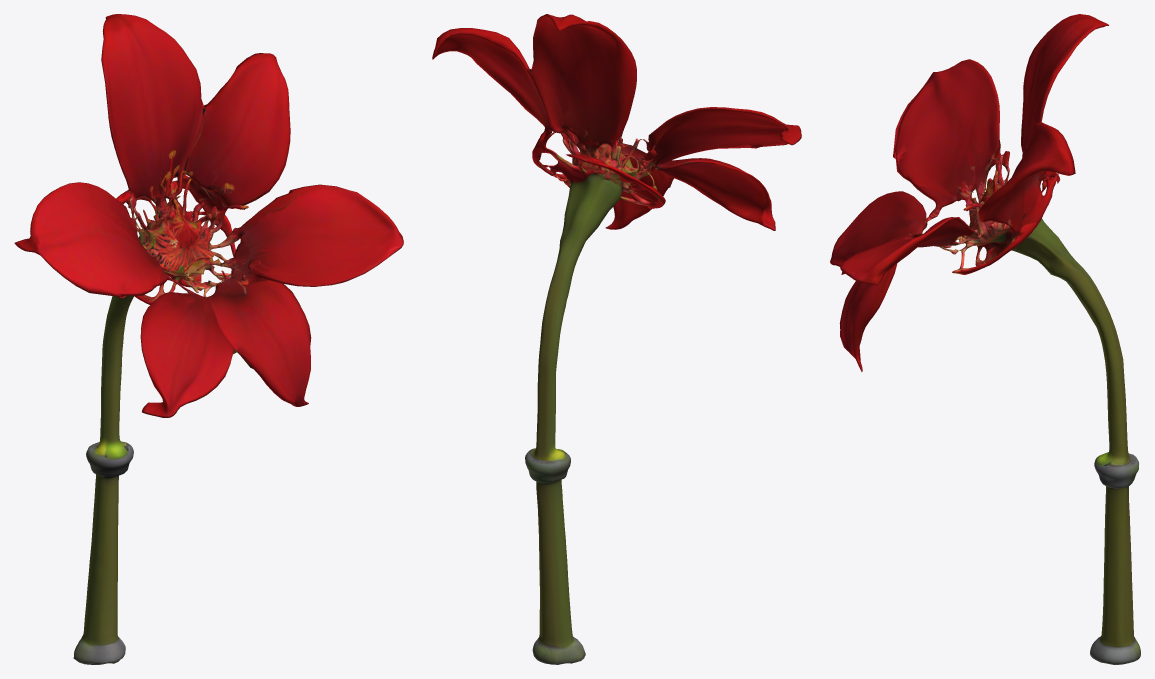
File: flower.glb
The picture shows the model from 3 angles, left to right: view 1: azimuth 30°, elevation 25°; view 2: azimuth 150°, elevation 25°; view 3: azimuth 270°, elevation 25°; orthographic projection. The views are drawn at different scales.
Bounding box in the file's own units: 1.11 × 2 × 0.8825.
Materials: 1 (1 with a texture image).
